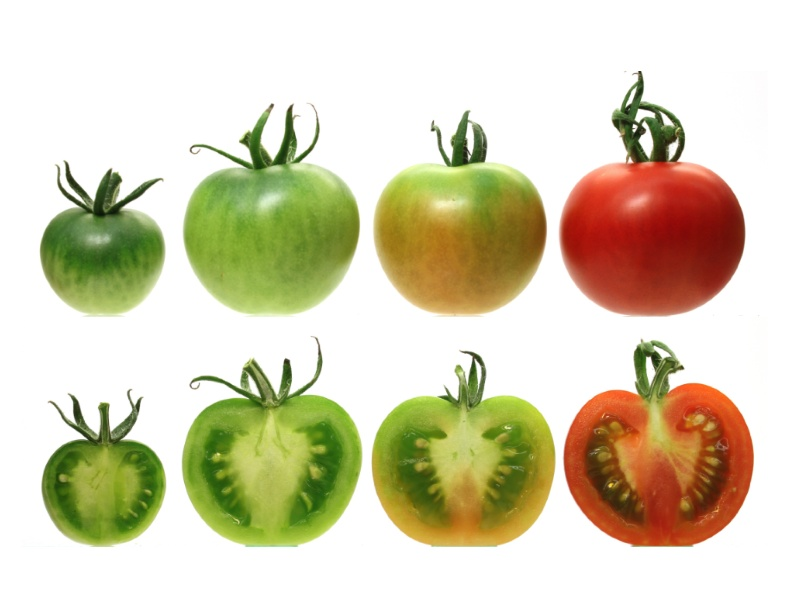Tomate: (563, 381, 754, 546), (560, 162, 748, 315), (184, 161, 362, 314), (184, 395, 362, 548), (373, 396, 554, 545), (374, 164, 548, 313), (42, 209, 165, 319), (42, 441, 167, 546)
